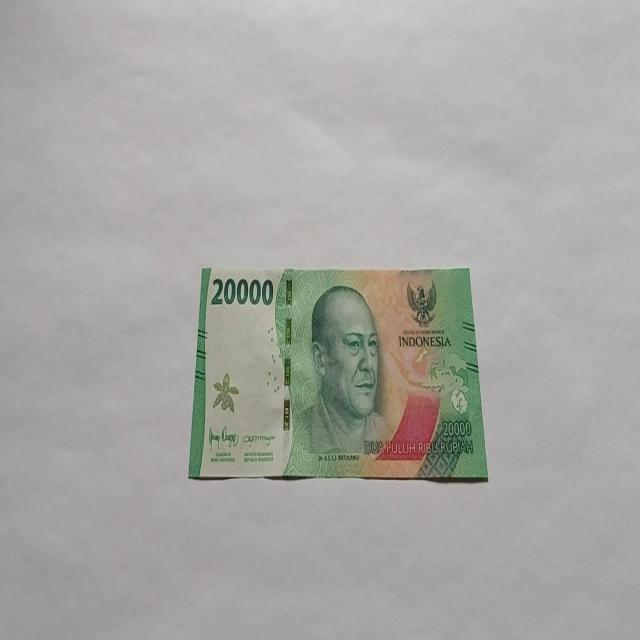dua puluh ribu rupiah: (188, 264, 488, 483), (288, 282, 396, 474)
